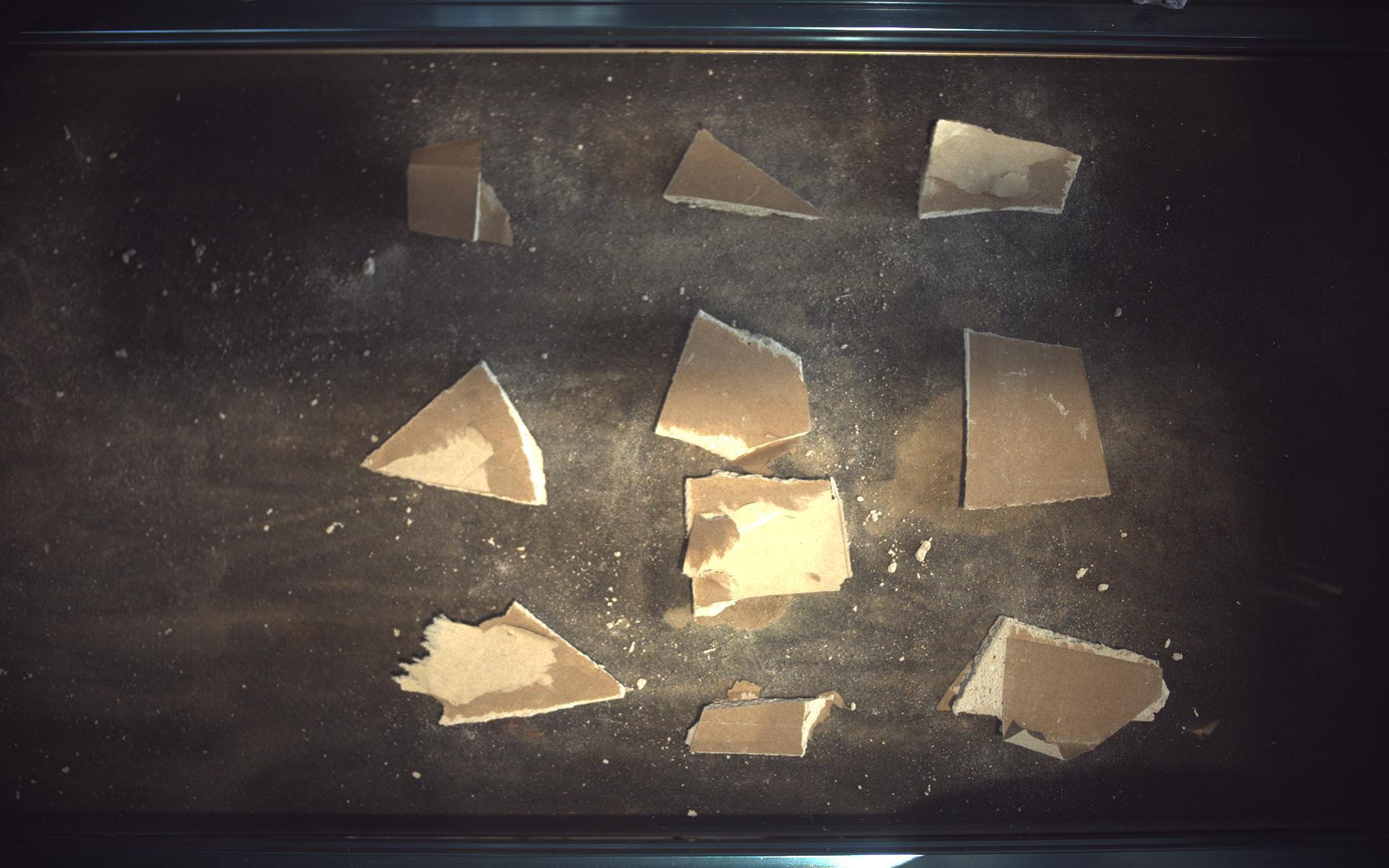gypsum_board: (939, 617, 1172, 762), (394, 603, 626, 726), (361, 362, 547, 506), (966, 328, 1113, 510), (656, 310, 812, 476), (684, 473, 853, 617), (921, 119, 1084, 218), (665, 127, 825, 219), (687, 681, 846, 758), (407, 137, 513, 245)
